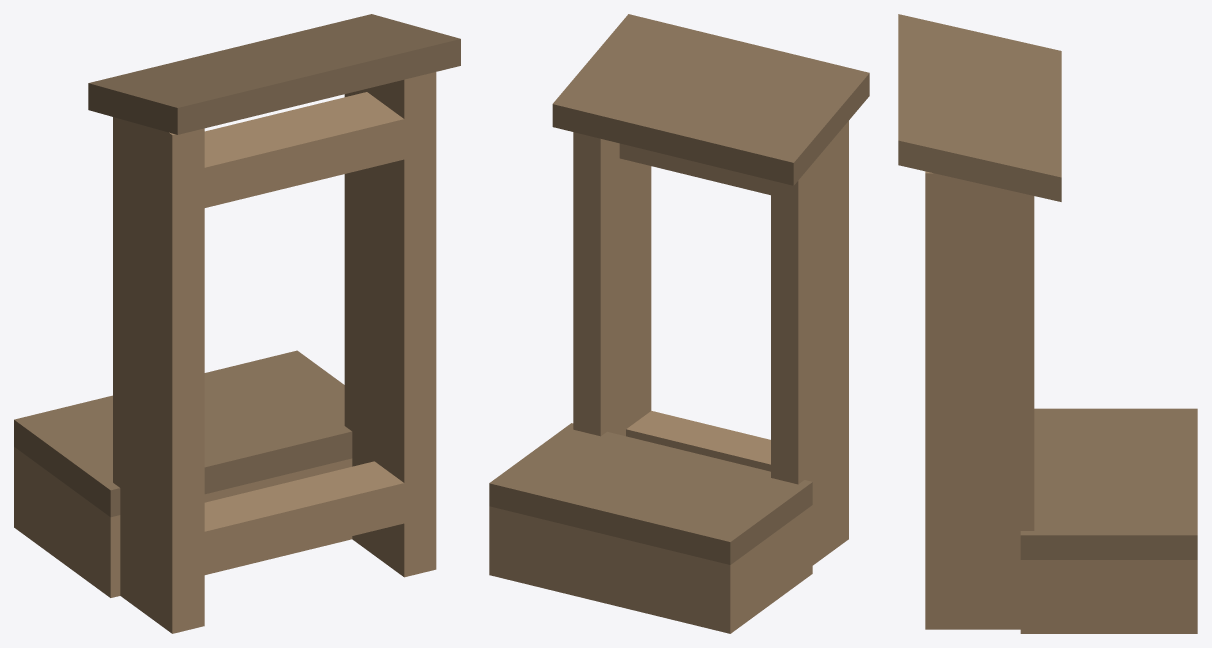
Rendered from prop-prie-dieu-wood.fbx.
The picture shows the model from 3 angles, left to right: view 1: azimuth 30°, elevation 25°; view 2: azimuth 150°, elevation 25°; view 3: azimuth 270°, elevation 25°; orthographic projection. The views are drawn at different scales.
Visible parts, largest first — view 1: prop-prie-dieu-wood; view 2: prop-prie-dieu-wood; view 3: prop-prie-dieu-wood.
Boxes of the visible parts, box(x1,y1,x2,y2) form: prop-prie-dieu-wood: box(14, 14, 460, 633); prop-prie-dieu-wood: box(489, 14, 869, 633); prop-prie-dieu-wood: box(898, 14, 1197, 633).
Bounding box in the file's own units: 0.44 × 0.8 × 0.44.
